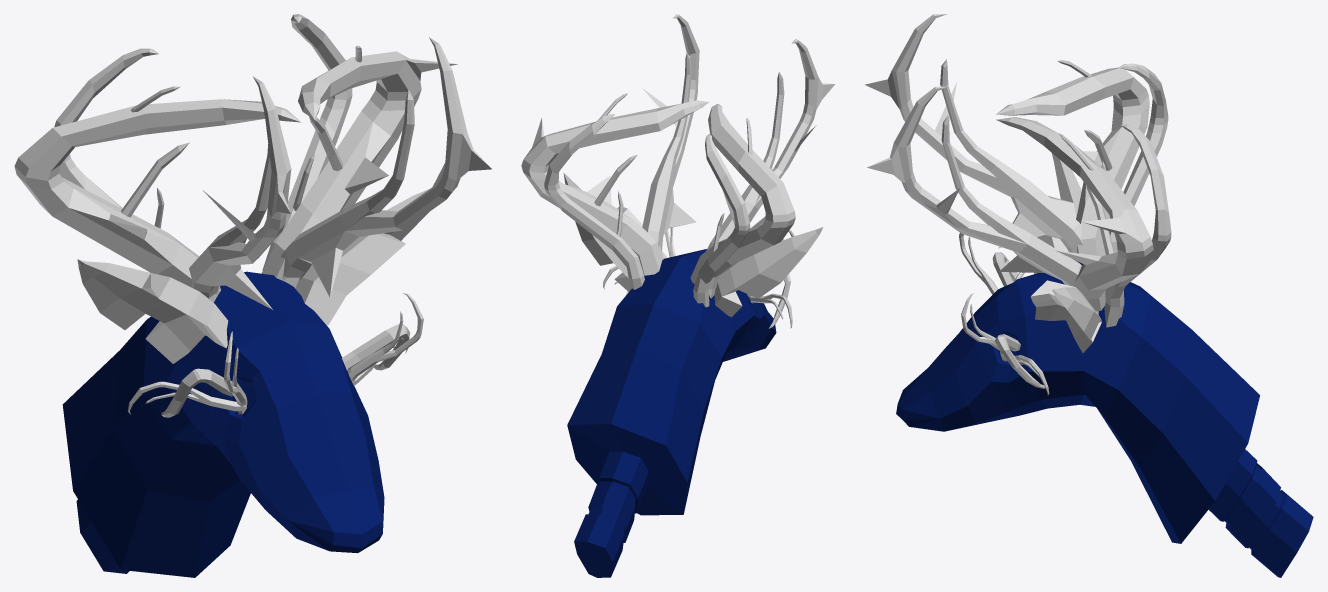
The model's file is deer_I head.fbx.
3 views of the same model, side by side, from view 1: azimuth 30°, elevation 25°; view 2: azimuth 150°, elevation 25°; view 3: azimuth 270°, elevation 25° (orthographic). The views are drawn at different scales.
Visible parts, largest first — view 1: deer/I head; view 2: deer/I head; view 3: deer/I head.
Part boxes in pixels (bbox=[...]): deer/I head: bbox=[14, 14, 491, 577]; deer/I head: bbox=[521, 14, 834, 577]; deer/I head: bbox=[865, 14, 1313, 577].
Bounding box in the file's own units: 0.4842 × 0.7621 × 0.584.
